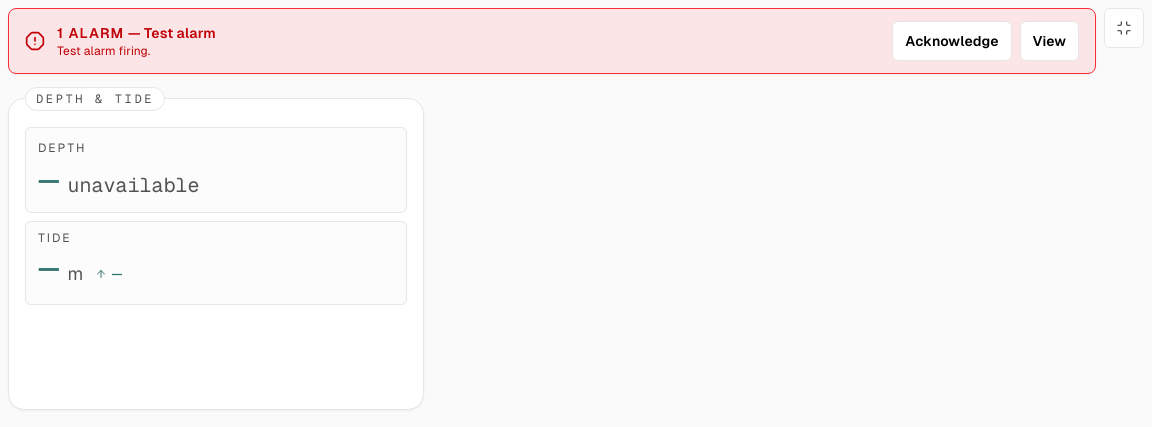
it: App full screen › a touch swipe left on the dashboard switches to the next page and shows its name and position, while full screen
Press the mouse on the element with test id "dashboard-swipe-surface" at (576, 250), box [8,90,1144,410]
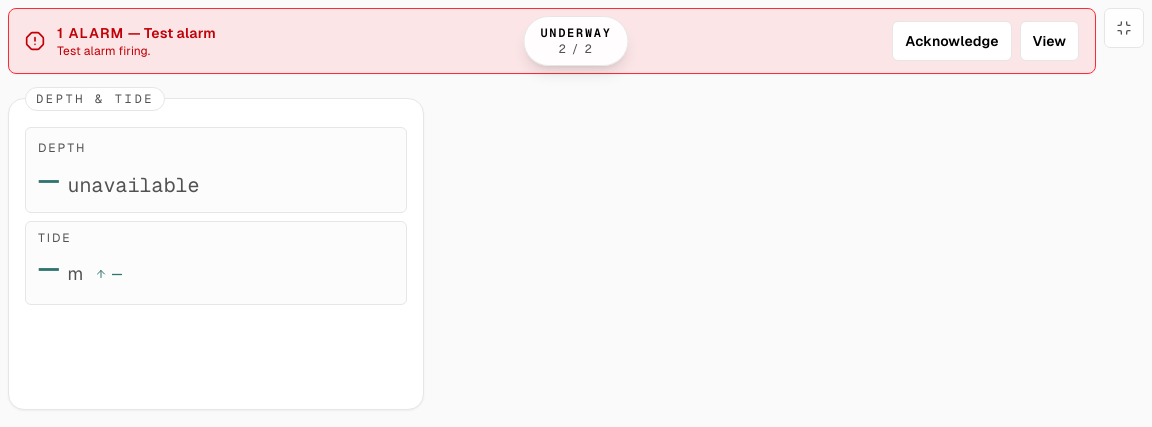
Expected: the text "Underway" is shown, [540,25,612,41]
Expected: the text "2 / 2" is shown, [558,42,594,56]
